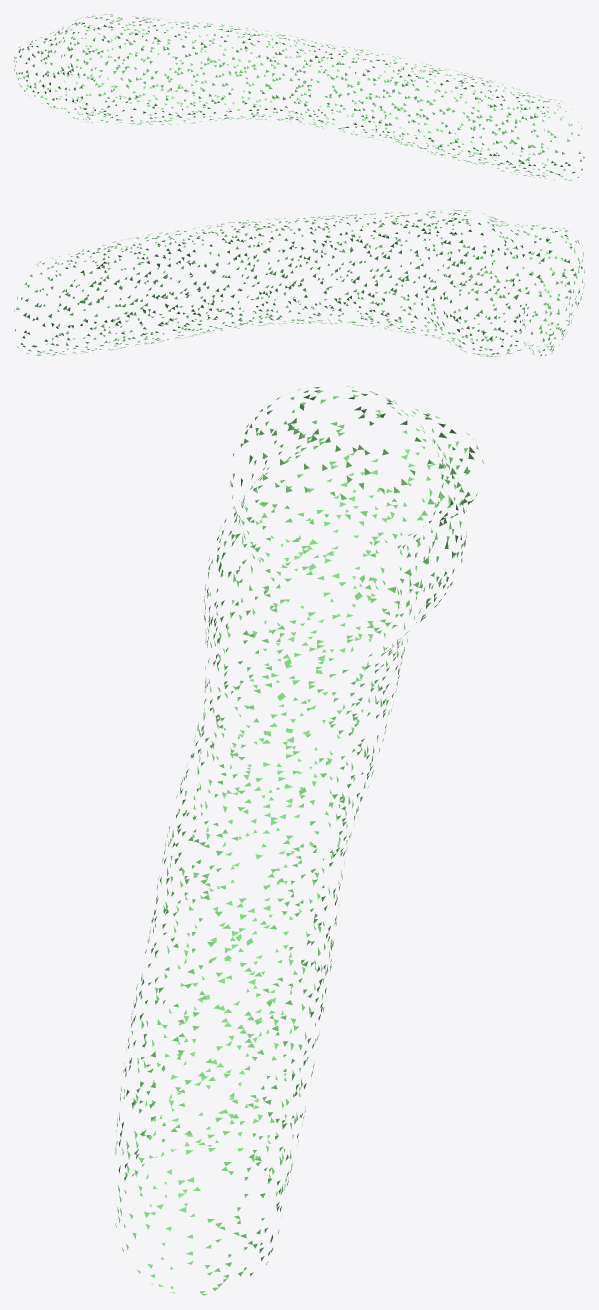
Rendered from morph_017.glb.
3 views of the same model, one above another, from view 1: azimuth 30°, elevation 25°; view 2: azimuth 150°, elevation 25°; view 3: azimuth 270°, elevation 25° (orthographic). The views are drawn at different scales.
Bounding box in the file's own units: 109 × 50.23 × 35.82.
